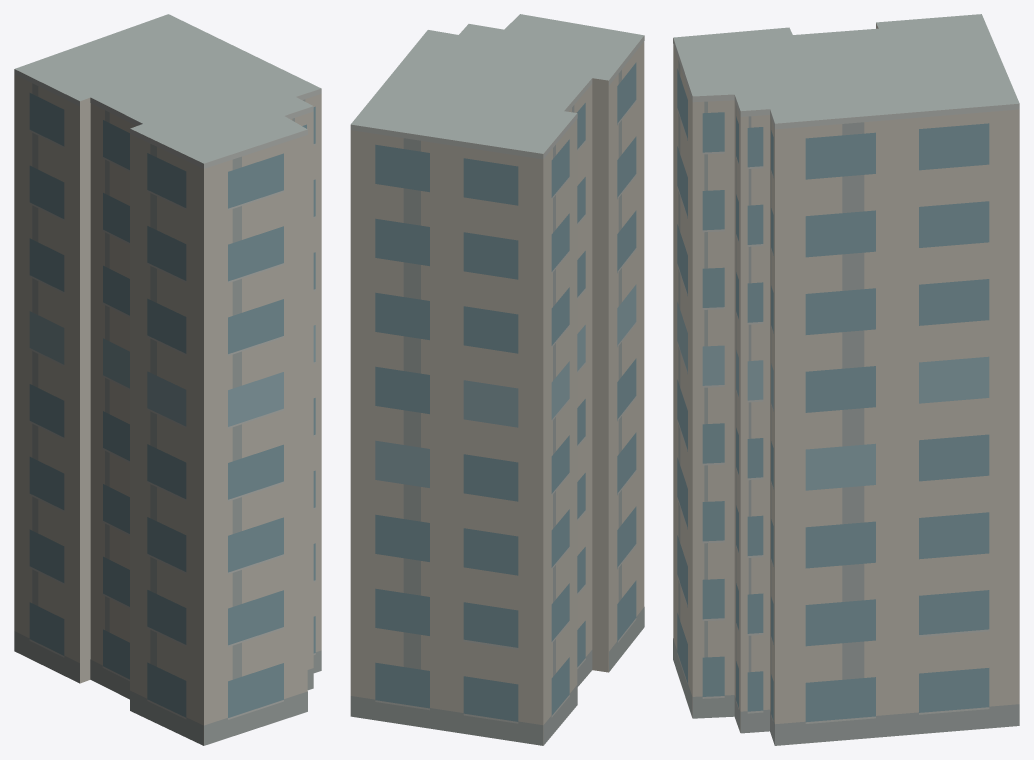
File: survey-upis-32907800.glb
The picture shows the model from 3 angles, left to right: view 1: azimuth 30°, elevation 25°; view 2: azimuth 150°, elevation 25°; view 3: azimuth 270°, elevation 25°; orthographic projection. The views are drawn at different scales.
Parts seen in each view (by area): view 1: survey-upis-32907800.tmp; view 2: survey-upis-32907800.tmp; view 3: survey-upis-32907800.tmp.
Part boxes in pixels (left/top/right/bottom): survey-upis-32907800.tmp: left=14, top=14, right=321, bottom=745; survey-upis-32907800.tmp: left=350, top=14, right=644, bottom=745; survey-upis-32907800.tmp: left=673, top=14, right=1019, bottom=745.
Bounding box in the file's own units: 9.92 × 26.2 × 13.24.
